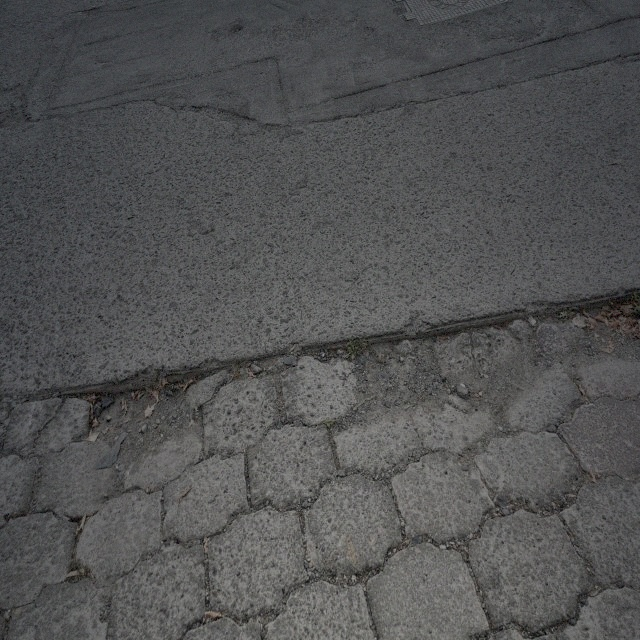pothole: (78, 345, 234, 474), (310, 327, 520, 414)
